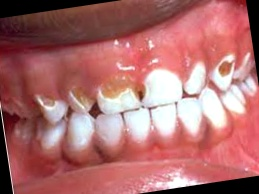Caries: (95, 72, 151, 109), (66, 84, 100, 116), (210, 54, 241, 84), (31, 84, 56, 118)
